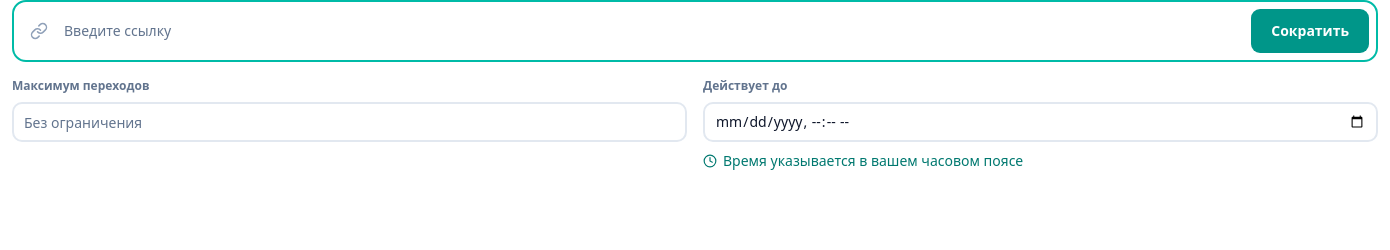
Test: CreateLinkForm › shows a network error message when the request fails
The width and height of the screenshot is (1390, 250).
In the field named "Адрес ссылки": x=646, y=31 [48,5,1244,57], type "https://example.com"
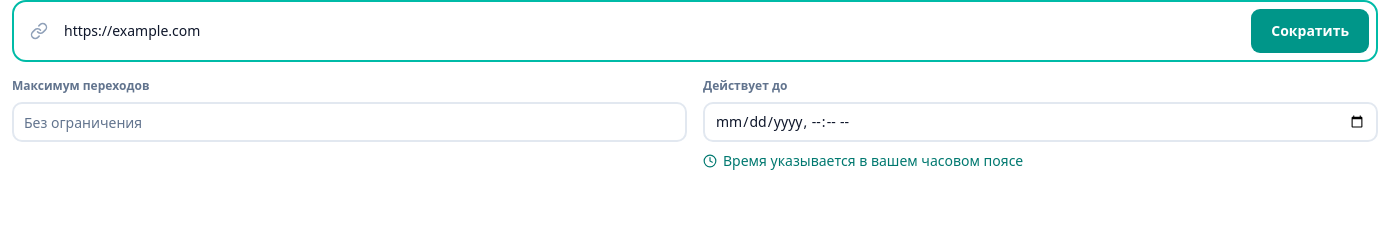
Click the button "Сократить": x=1310, y=31 [1250,8,1370,54]
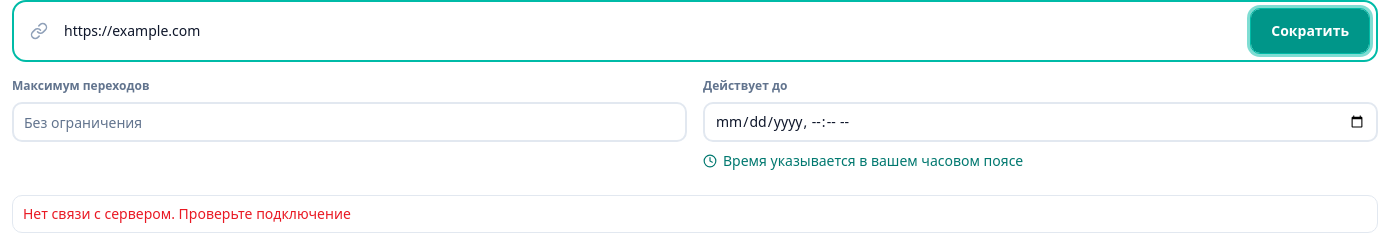
Expected: the text "Нет связи с сервером. Проверьте подключение" is shown, [23,204,351,223]
